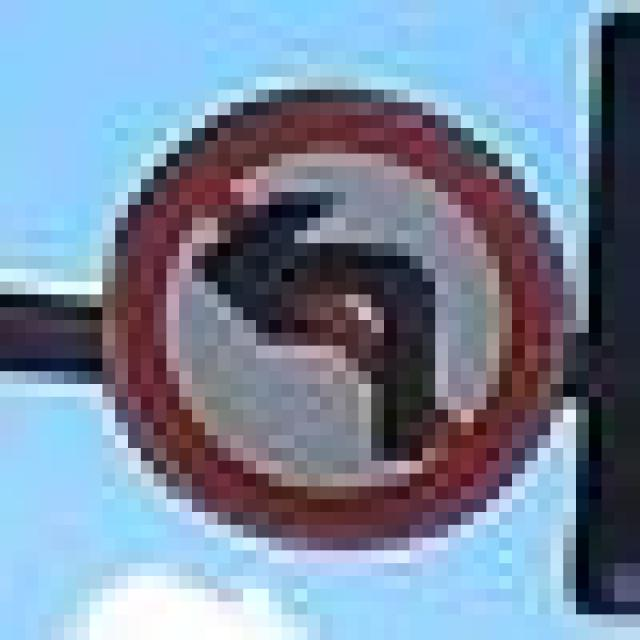do_not_turn_left: (77, 64, 550, 538)
